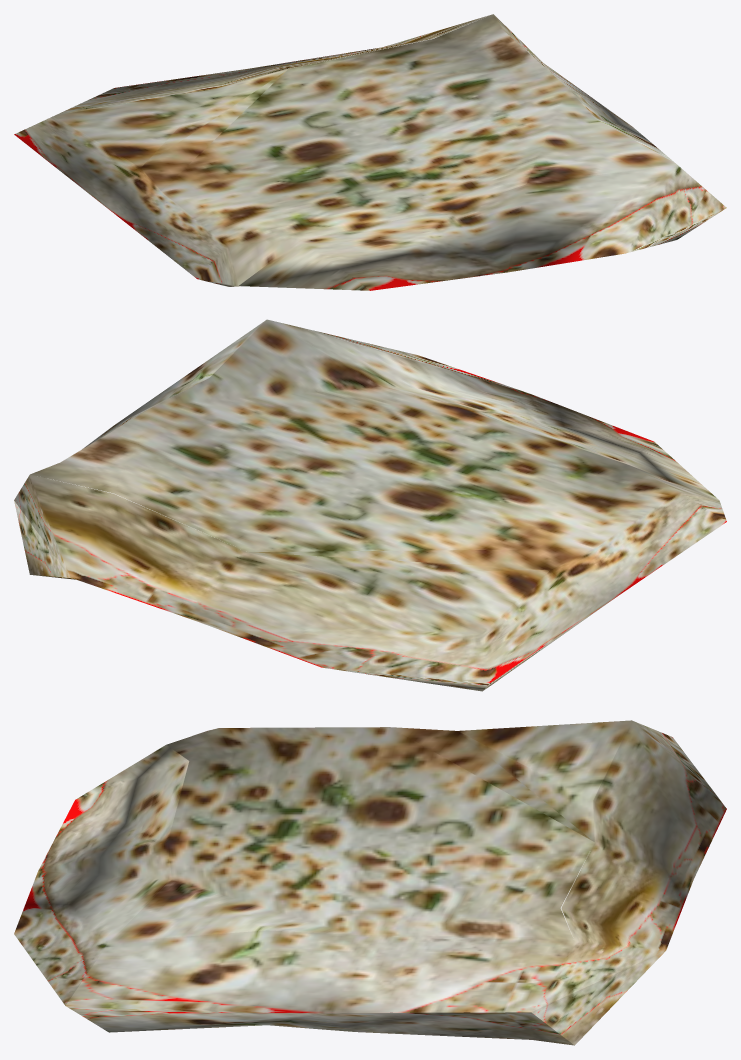
The model's file is breadunleaven.glb.
3 renders of one model, top to bottom at view 1: azimuth 30°, elevation 25°; view 2: azimuth 150°, elevation 25°; view 3: azimuth 270°, elevation 25°, orthographic. The views are drawn at different scales.
Parts seen in each view (by area): view 1: centerouter, center, top, right, bottom, left; view 2: center, centerouter, bottom, right, top, left; view 3: left, center, centerouter, bottom, top.
Part boxes in pixels (x1,y1,x2,y2): centerouter: [55, 14, 676, 286]; center: [161, 69, 567, 207]; top: [239, 164, 726, 290]; right: [14, 116, 238, 286]; bottom: [29, 14, 491, 127]; left: [494, 15, 675, 163]; center: [156, 405, 592, 551]; centerouter: [30, 319, 718, 632]; bottom: [14, 474, 489, 691]; right: [482, 492, 726, 690]; top: [268, 320, 718, 499]; left: [83, 320, 265, 448]; left: [65, 930, 574, 1045]; center: [168, 727, 594, 934]; centerouter: [109, 720, 631, 942]; bottom: [531, 720, 726, 1045]; top: [14, 745, 189, 1005].
Bounding box in the file's own units: 0.074 × 0.0127 × 0.079.
1 material, 1 textured.
